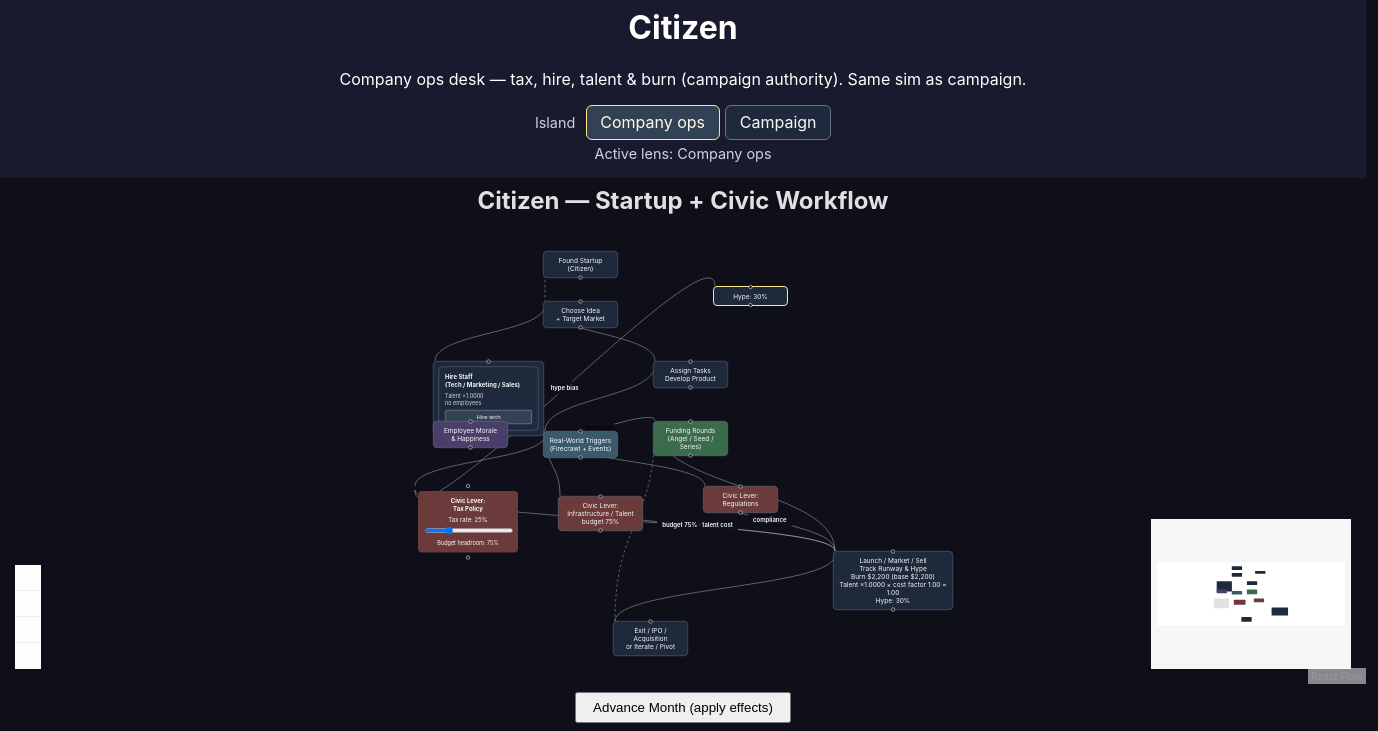
Test: role select gate (CIT-113) › island switcher moves between company ops and campaign without remounting sim cash
Click the button with test id "island-campaign".
click(778, 122)  # box [725, 105, 831, 140]
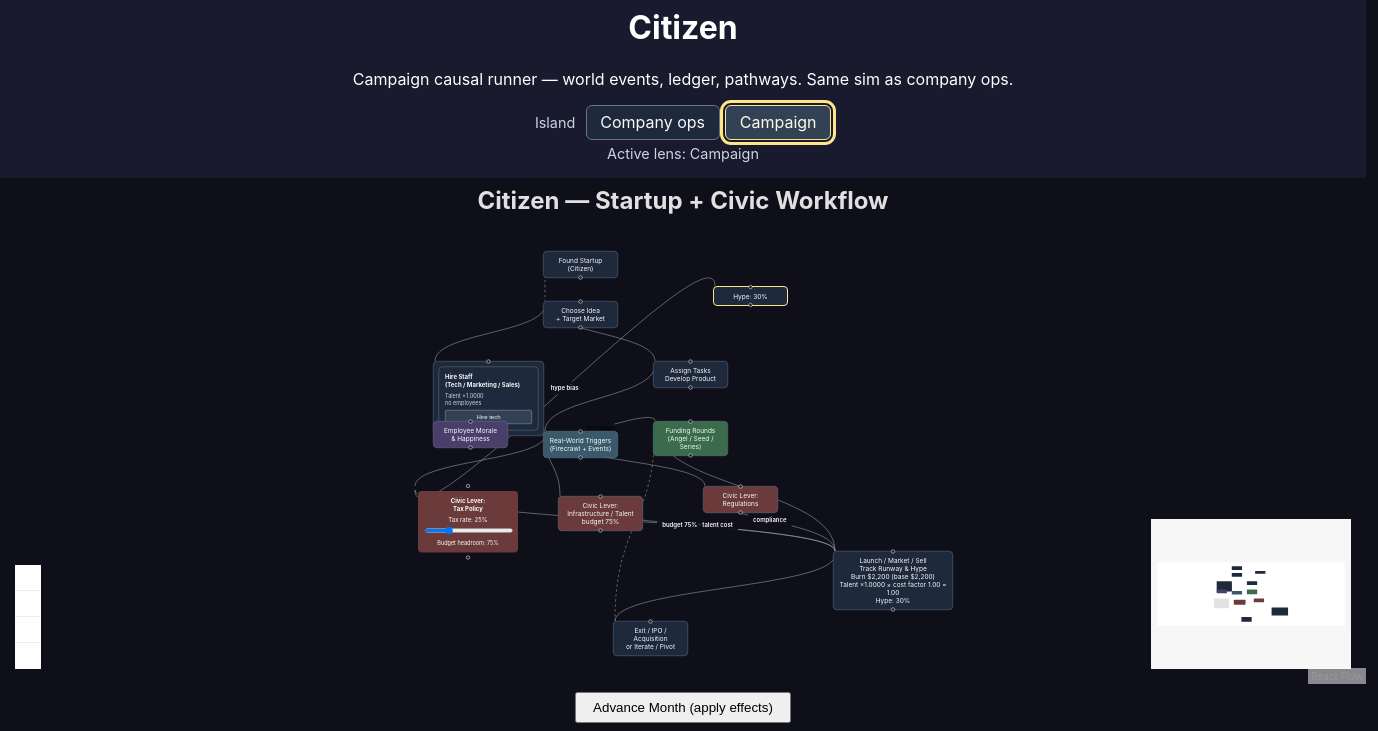
Check: the text with test id "active-role-label" shows "Campaign", box [690, 145, 759, 162]
Click the button with test id "island-company-ops".
click(653, 122)  # box [586, 105, 720, 140]
(page scrolled)
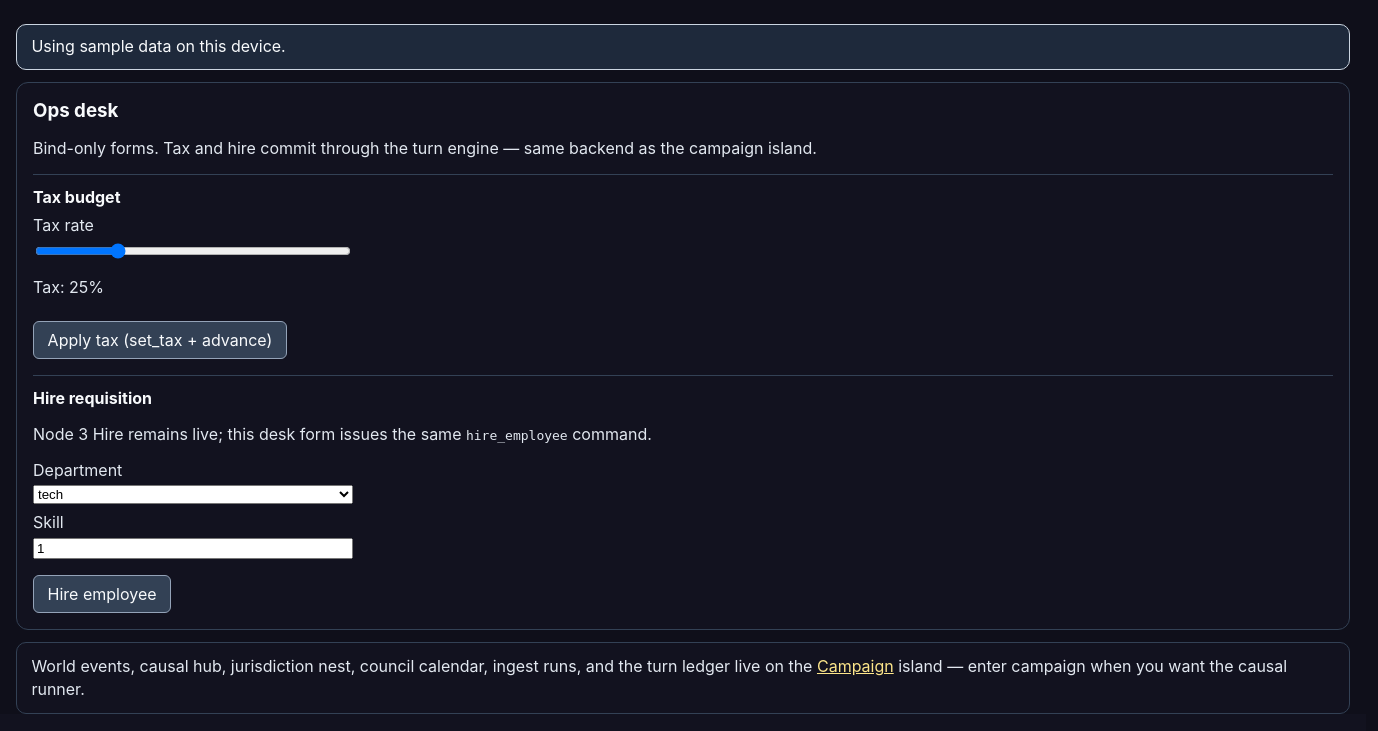
Check: the element with test id "company-ops-forms" is shown
